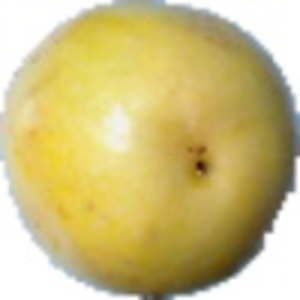maracujá: (1, 1, 300, 300)
